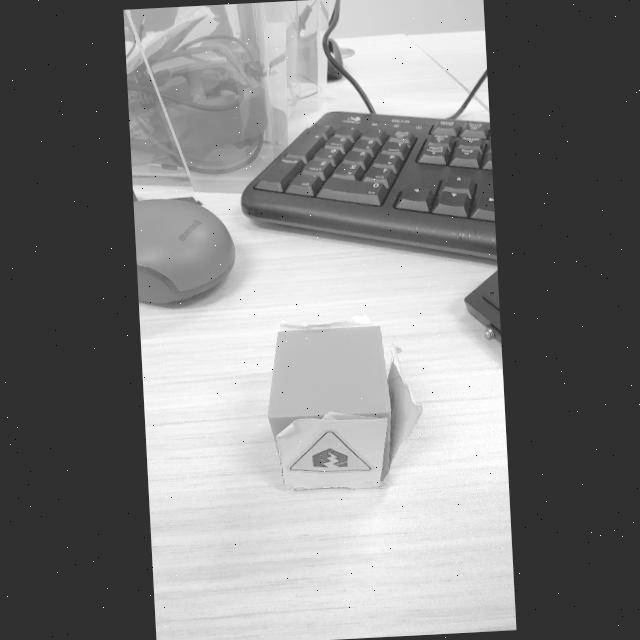Earthquake: (288, 431, 373, 473)
